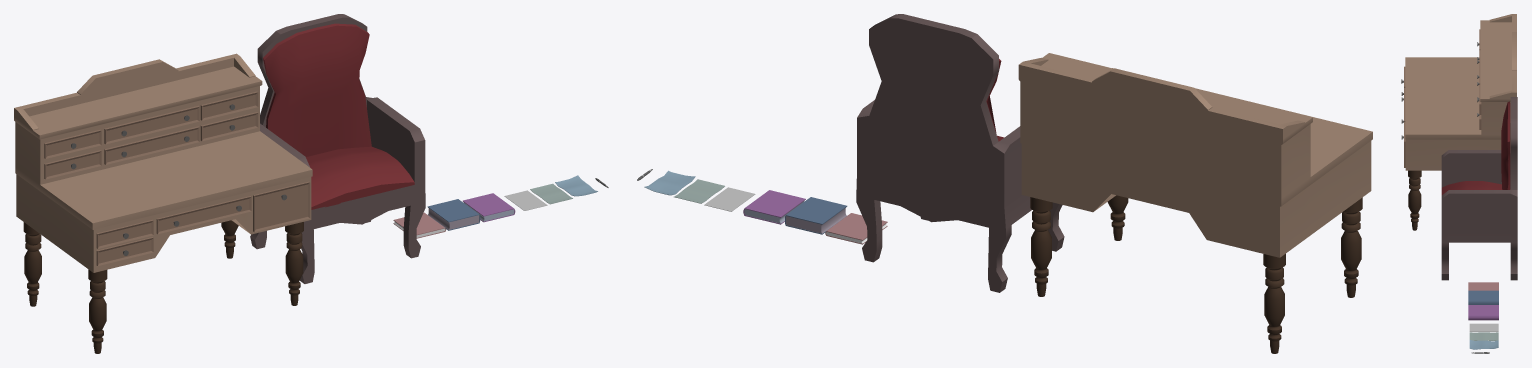
Rendered from StudyRoom_Assets_UVDone.fbx.
3 renders of one model, left to right at view 1: azimuth 30°, elevation 25°; view 2: azimuth 150°, elevation 25°; view 3: azimuth 270°, elevation 25°, orthographic. The views are drawn at different scales.
Visible parts, largest first — view 1: Desk, Armchair, Book3, Book1, Book2, Paper3, Paper1, Paper2; view 2: Desk, Armchair, Book3, Book1, Book2, Paper1, Paper3, Paper2; view 3: Desk, Armchair, Book1, Book3, Book2, Paper1, Paper2, Paper3.
Boxes of the visible parts, <box> form: Desk: <box>14,53,312,353</box>; Armchair: <box>250,14,425,283</box>; Book3: <box>427,199,480,230</box>; Book1: <box>463,193,515,222</box>; Book2: <box>393,212,446,238</box>; Paper3: <box>555,175,597,196</box>; Paper1: <box>504,190,547,210</box>; Paper2: <box>530,183,572,204</box>; Desk: <box>1018,53,1372,353</box>; Armchair: <box>856,14,1064,292</box>; Book3: <box>785,197,847,234</box>; Book1: <box>743,190,805,224</box>; Book2: <box>825,213,887,244</box>; Paper1: <box>704,187,755,211</box>; Paper3: <box>644,170,695,195</box>; Paper2: <box>674,179,724,203</box>; Desk: <box>1401,14,1516,230</box>; Armchair: <box>1441,97,1517,280</box>; Book1: <box>1468,305,1498,320</box>; Book3: <box>1468,290,1498,304</box>; Book2: <box>1468,282,1498,290</box>; Paper1: <box>1469,323,1498,331</box>; Paper2: <box>1469,332,1498,340</box>; Paper3: <box>1469,340,1498,349</box>.
Size of the model in its own units: 52.27 by 18.68 by 12.88.
